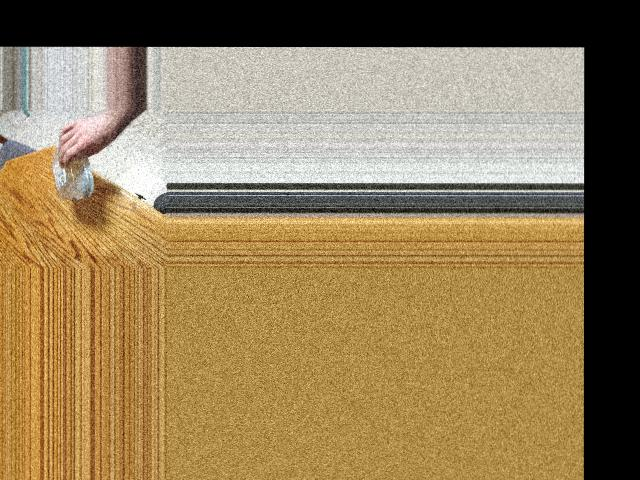cheese: (50, 134, 98, 187)
